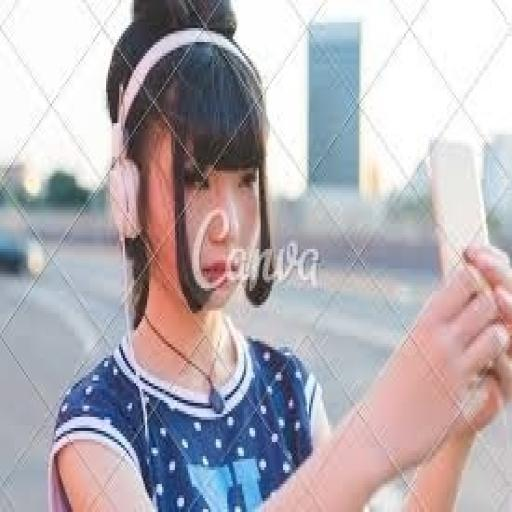listening_to_music: (45, 0, 510, 509)
